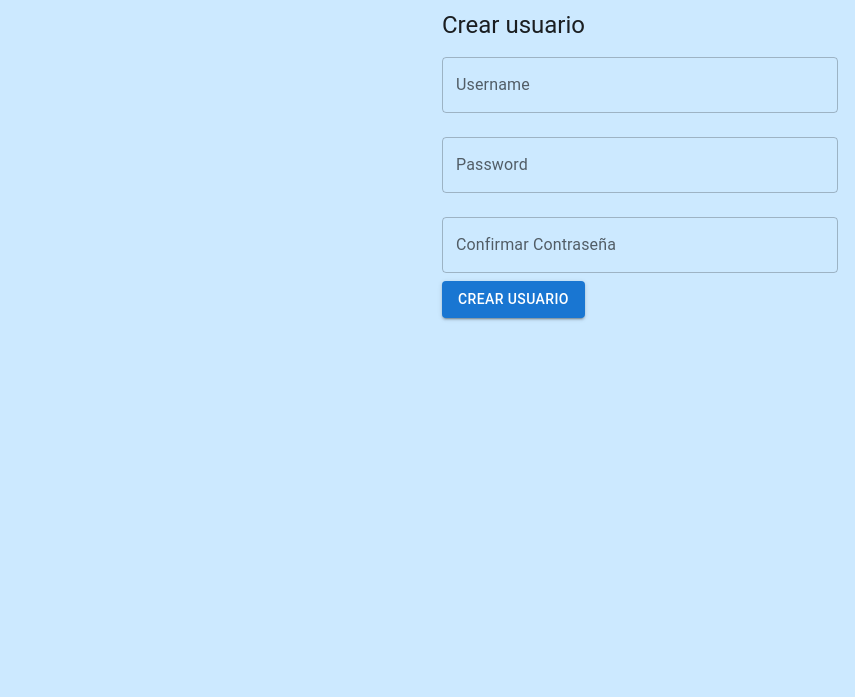
Scenario: AddUser component › should add user successfully
// Simulate user input
Type "testUser" into the field labelled "Username".
click(640, 85); type("testUser")  # box [442, 57, 838, 113]
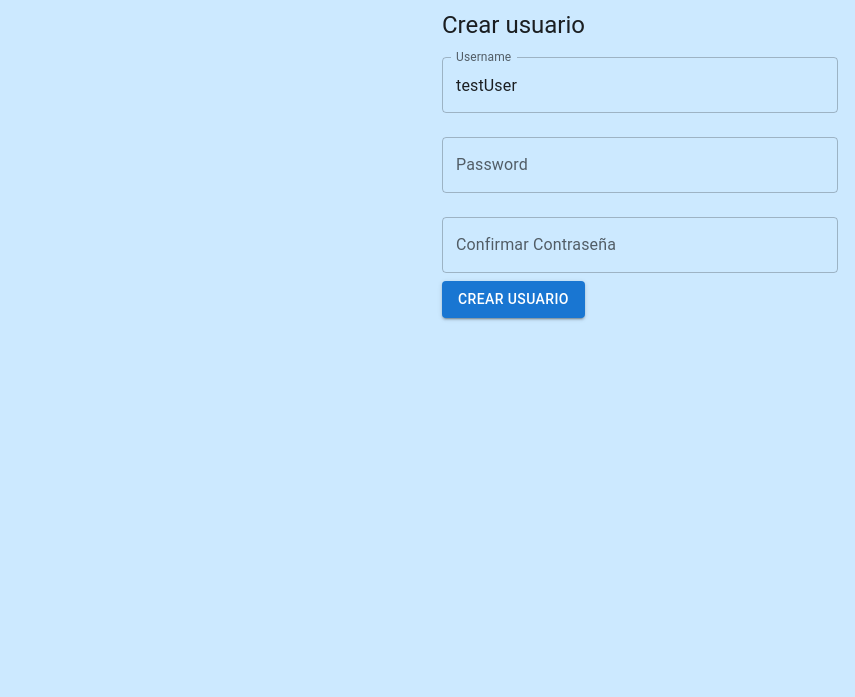
Type "testPassword" into the password field labelled "Password".
click(640, 165); type("testPassword")  # box [442, 137, 838, 193]
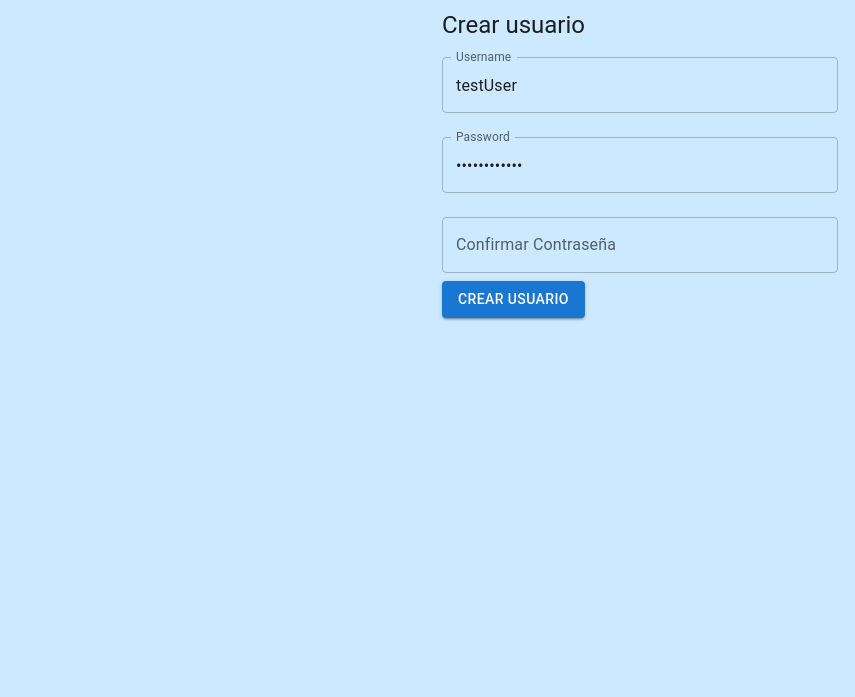
Type "testPassword" into the password field labelled "Confirmar Contraseña".
click(640, 245); type("testPassword")  # box [442, 217, 838, 273]
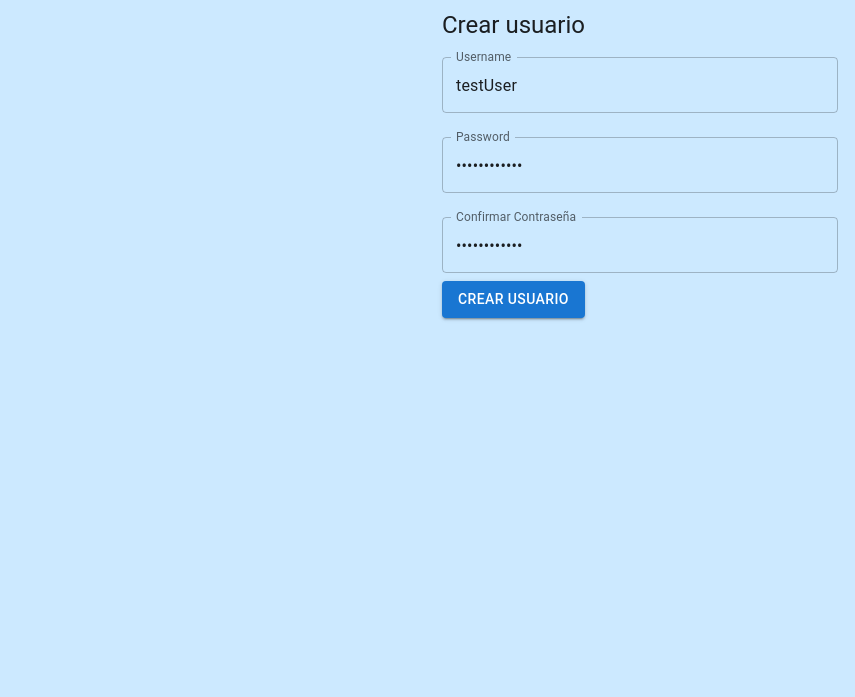
// Trigger the add user button click
Click the button "Crear usuario".
click(513, 299)  # box [442, 281, 585, 318]
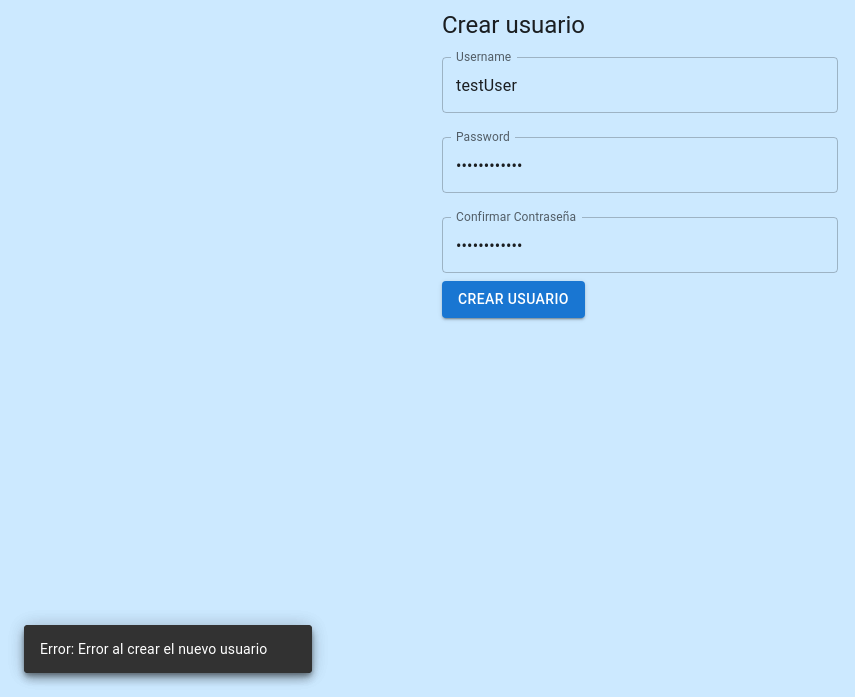
Check: the text "Usuario añadido correctamente" is shown, box [40, 641, 240, 657]
